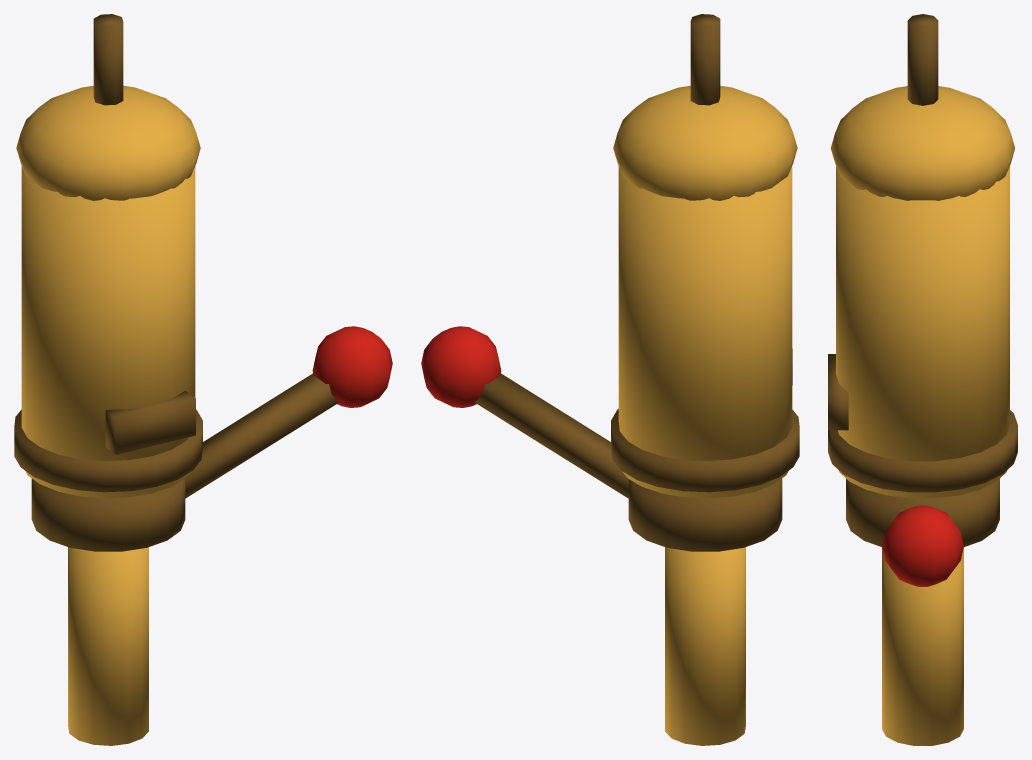
Rendered from steam_whistle.obj.
3 views of the same model, side by side, from view 1: azimuth 30°, elevation 25°; view 2: azimuth 150°, elevation 25°; view 3: azimuth 270°, elevation 25° (orthographic).
Bounding box in the file's own units: 0.1618 × 0.305 × 0.074.
